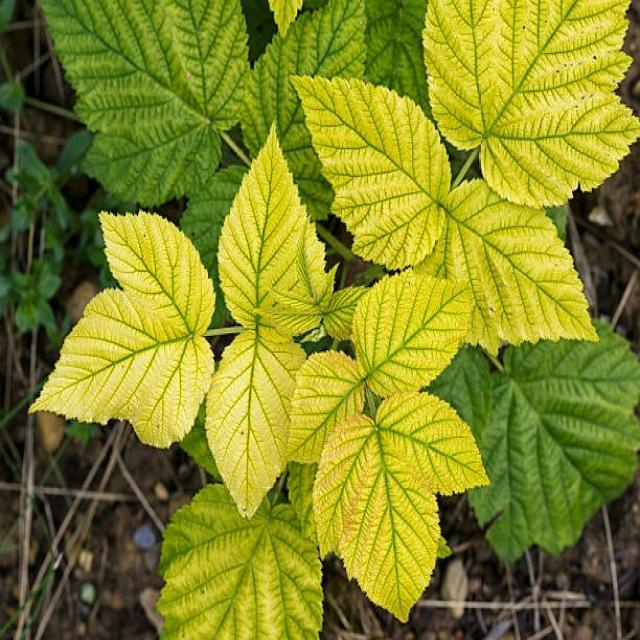Chlorosis: (35, 72, 602, 610)
